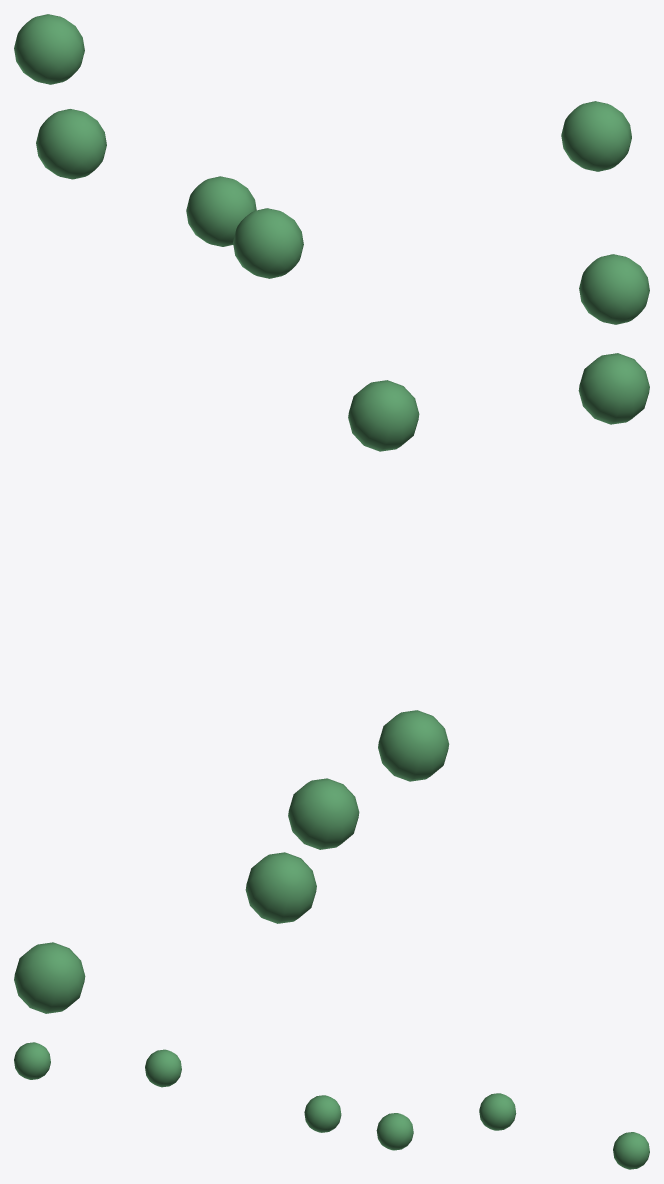
3 renders of one model, top to bottom at view 1: azimuth 30°, elevation 25°; view 2: azimuth 150°, elevation 25°; view 3: azimuth 270°, elevation 25°, orthographic. The views are drawn at different scales.
Parts seen in each view (by area): view 1: 左侧颈内静脉下段前淋巴结; view 2: 左侧颈内静脉下段前淋巴结; view 3: 左侧颈内静脉下段前淋巴结.
Boxes of the visible parts, box(x1,y1,x2,y2) form: 左侧颈内静脉下段前淋巴结: box(14, 14, 649, 324); 左侧颈内静脉下段前淋巴结: box(14, 353, 649, 1013); 左侧颈内静脉下段前淋巴结: box(14, 1042, 649, 1169).
Size of the model in its own units: 0.017 by 0.0161 by 0.0642.
